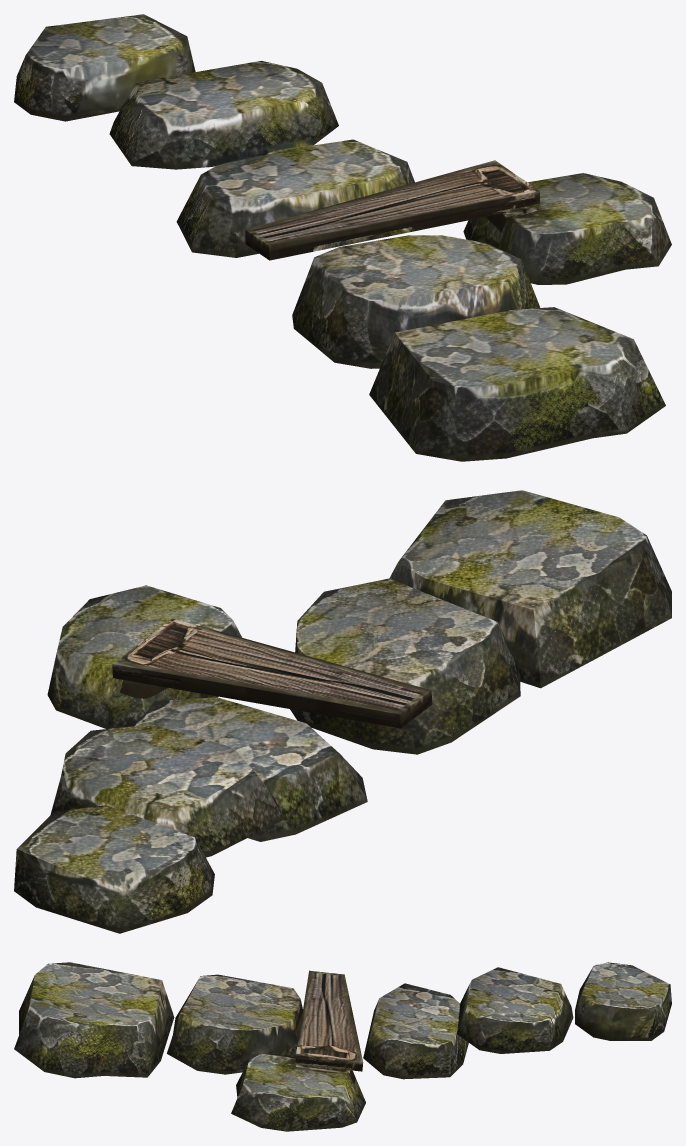
File: act1_kit_v1_stepping_ford.glb
3 views of the same model, one above another, from view 1: azimuth 30°, elevation 25°; view 2: azimuth 150°, elevation 25°; view 3: azimuth 270°, elevation 25° (orthographic). The views are drawn at different scales.
Parts seen in each view (by area): view 1: A06_3_stepping_ford; view 2: A06_3_stepping_ford; view 3: A06_3_stepping_ford.
Part boxes in pixels (x1=…): A06_3_stepping_ford: x1=14, y1=14, x2=671, y2=461; A06_3_stepping_ford: x1=14, y1=490, x2=671, y2=933; A06_3_stepping_ford: x1=14, y1=962, x2=671, y2=1131.
Bounding box in the file's own units: 0.4756 × 0.1007 × 0.998.
1 material, 1 textured.
